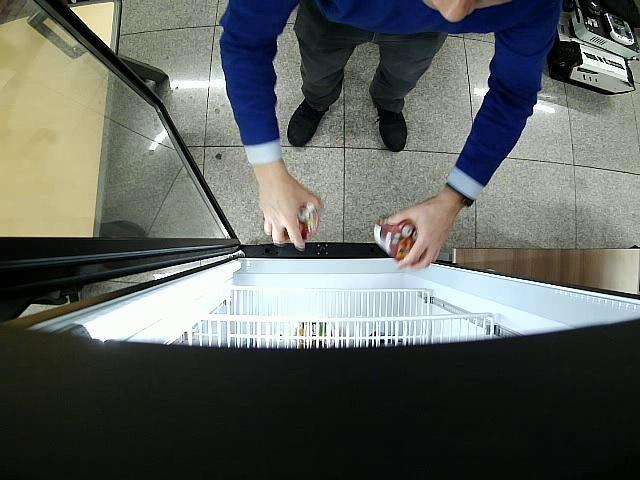06_nuguri_S: (374, 216, 417, 261), (284, 202, 319, 240)
